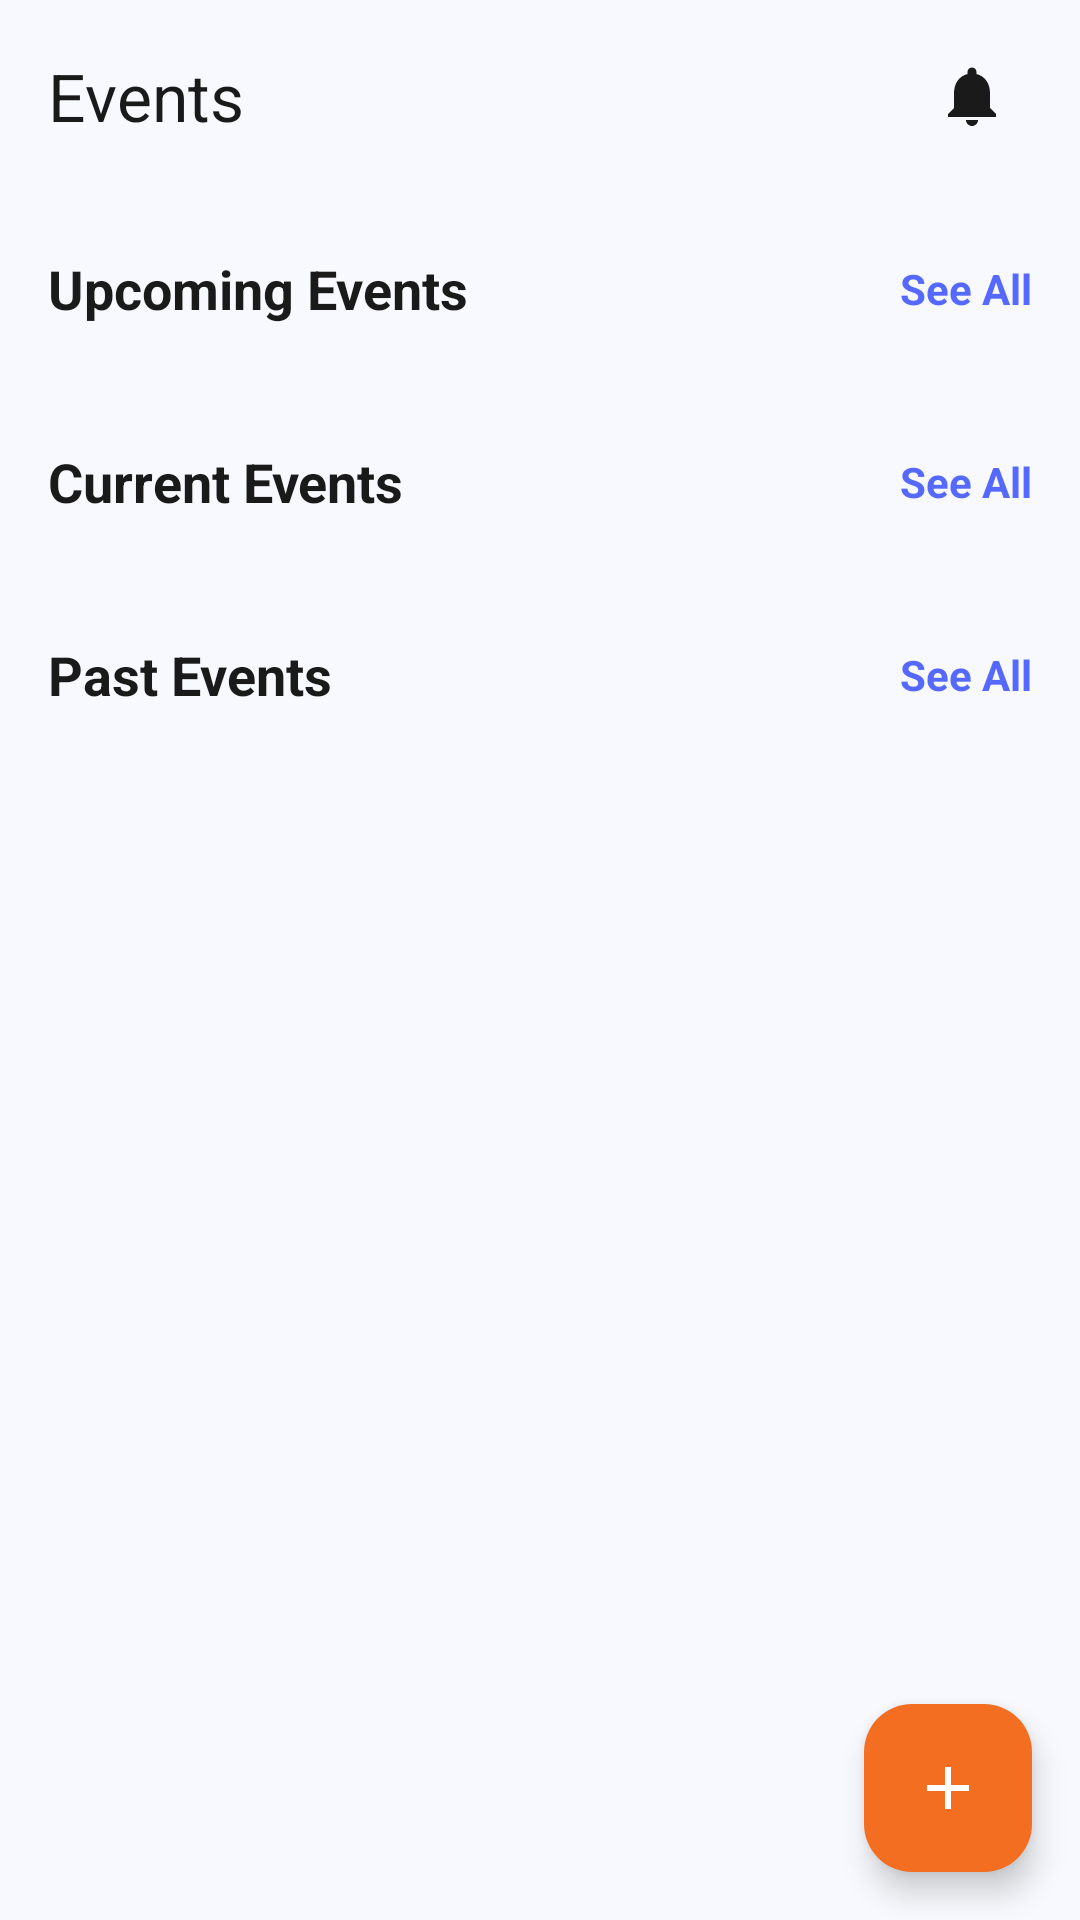

Screen size 1080x1920. Icon name, then its box in pixels as (x1, y1, x2, y2):
add: (864, 1704, 1032, 1872)
Notifications: (948, 67, 996, 126)
